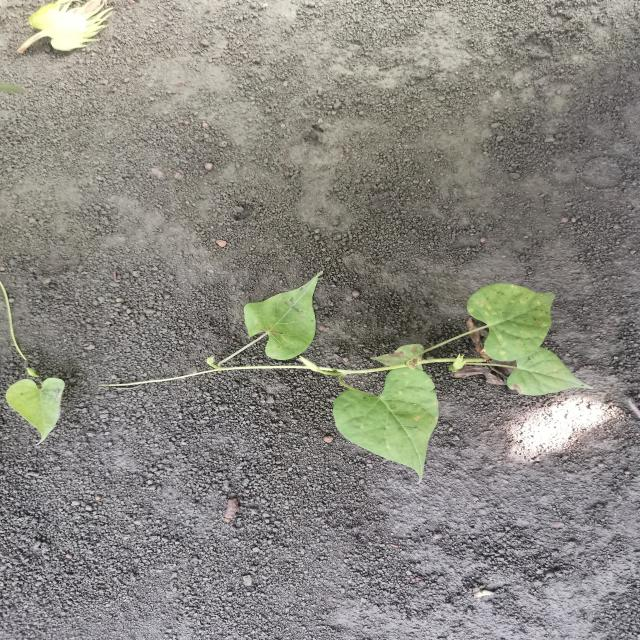MorningGlory: (5, 269, 597, 489)
